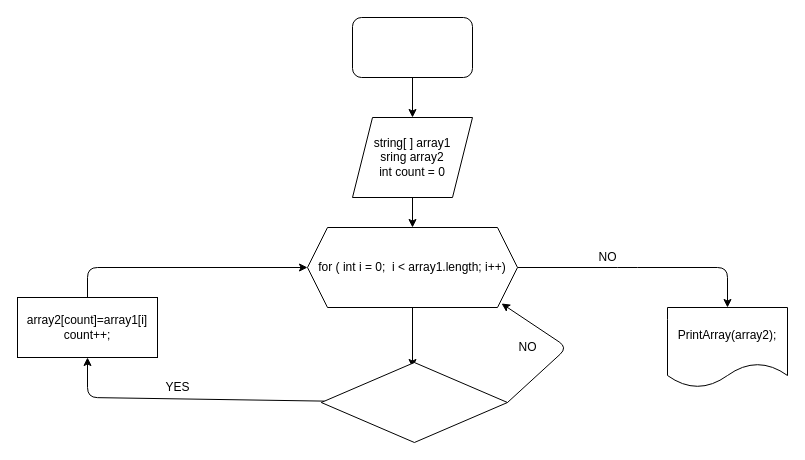
The diagram is 805 pixels wide and 460 high, and some of its shapes have lost their labels. Each missing label, with the centre of its shape:
1ArrayTo2Array: (412,47)
if (array1[i]<=3): (414,402)
